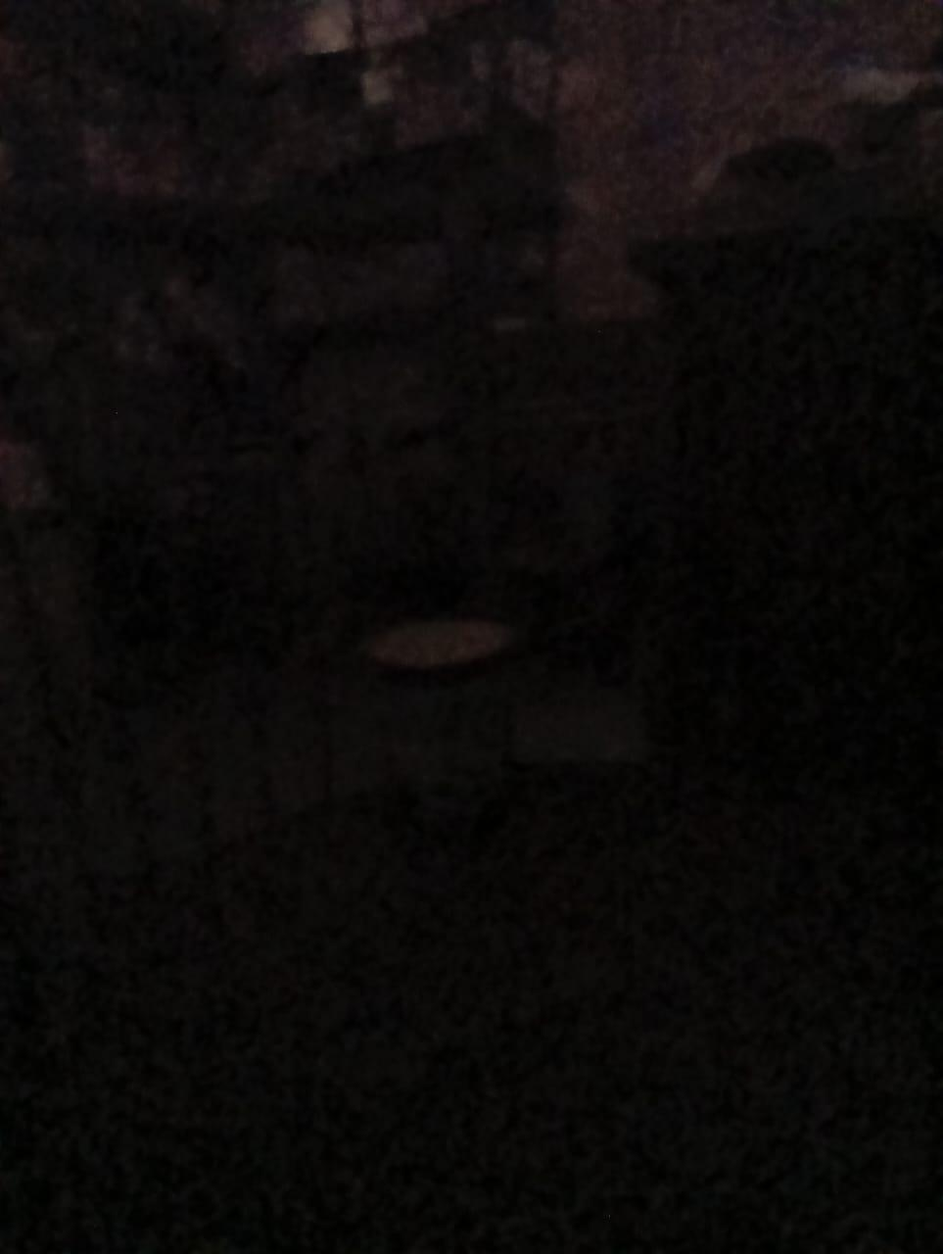cup: (359, 610, 519, 809), (364, 618, 513, 672)
